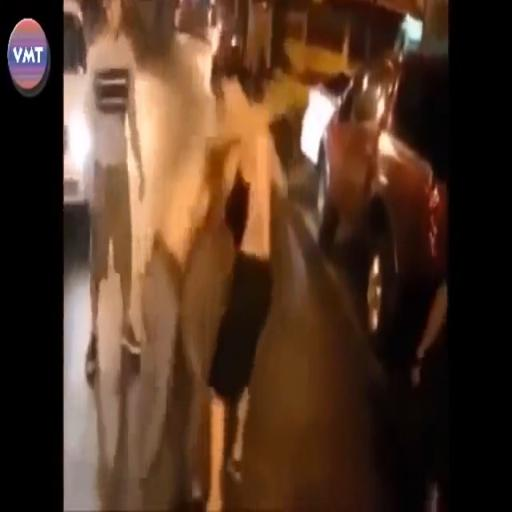violencia: (116, 31, 295, 506)
